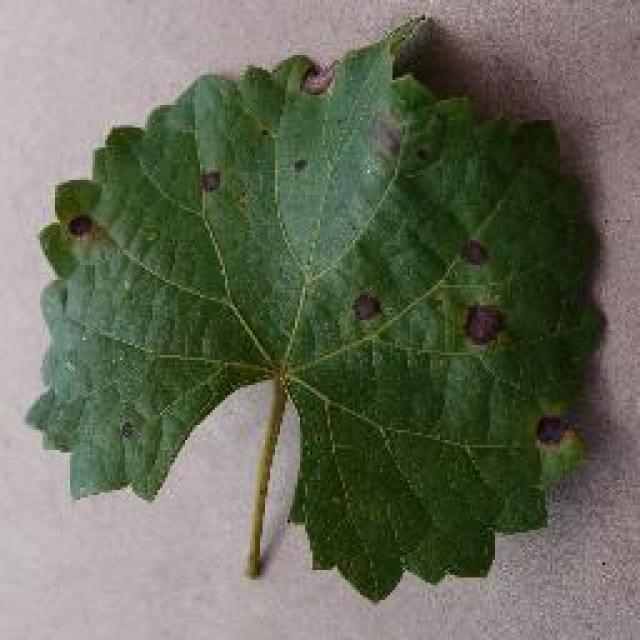Grape___Black_rot: (20, 11, 610, 604)
